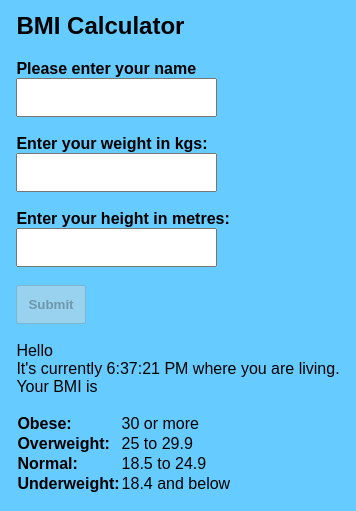
Test: App › shows the user their BMI score and highlights the BMI in the list
Expected: the text with test id "bmi-score" reads "Your BMI is", x1=16 y1=378 x2=98 y2=395
Type "Irene" into the field with test id "name-input". click: (117, 97)
box: x1=16 y1=78 x2=217 y2=117
Type "24" into the number field with test id "weight-input". click: (117, 172)
box: x1=16 y1=153 x2=217 y2=192
Type "1.2" into the number field with test id "height-input". click: (117, 247)
box: x1=16 y1=228 x2=217 y2=267
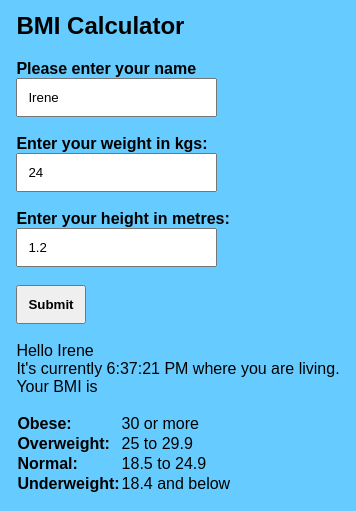
Click the button with test id "submit-button". click: click(51, 304)
box: x1=16 y1=285 x2=86 y2=324
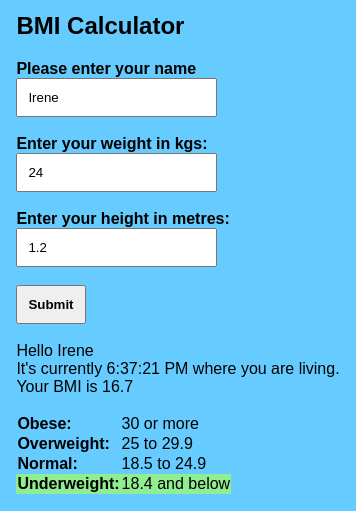
Now the text with test id "bmi-score" reads "Your BMI is 16.7", box x1=16 y1=378 x2=133 y2=395
Replace the text in the field with test id "name-input" with "Antony". click: (117, 97)
box: x1=16 y1=78 x2=217 y2=117
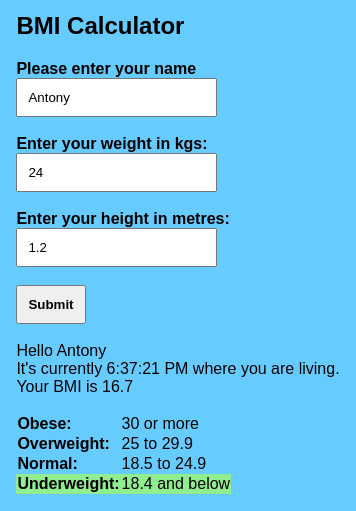
Replace the text in the number field with test id "weight-input" with "68". click: (117, 172)
box: x1=16 y1=153 x2=217 y2=192
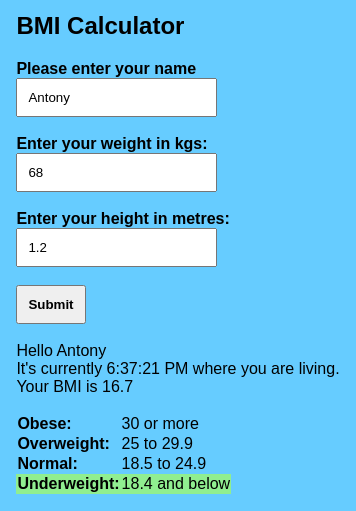
Replace the text in the number field with test id "height-input" with "1.5". click: (117, 247)
box: x1=16 y1=228 x2=217 y2=267
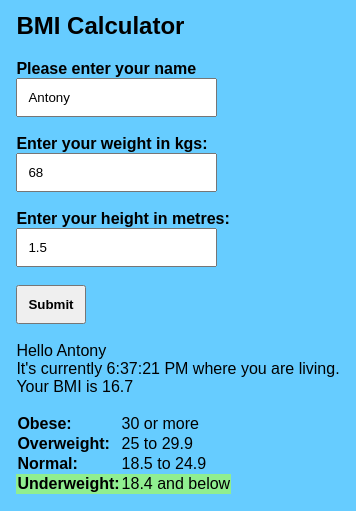
Click the button with test id "submit-button". click: click(51, 304)
box: x1=16 y1=285 x2=86 y2=324
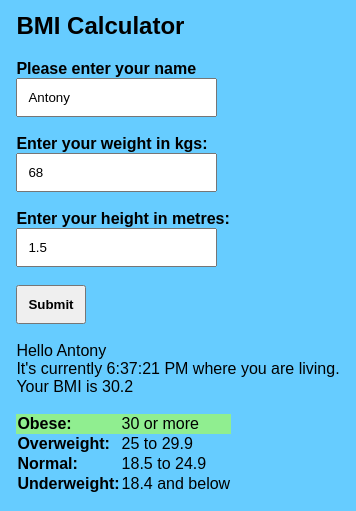
Now the text with test id "bmi-score" reads "Your BMI is 30.2", box x1=16 y1=378 x2=133 y2=395
